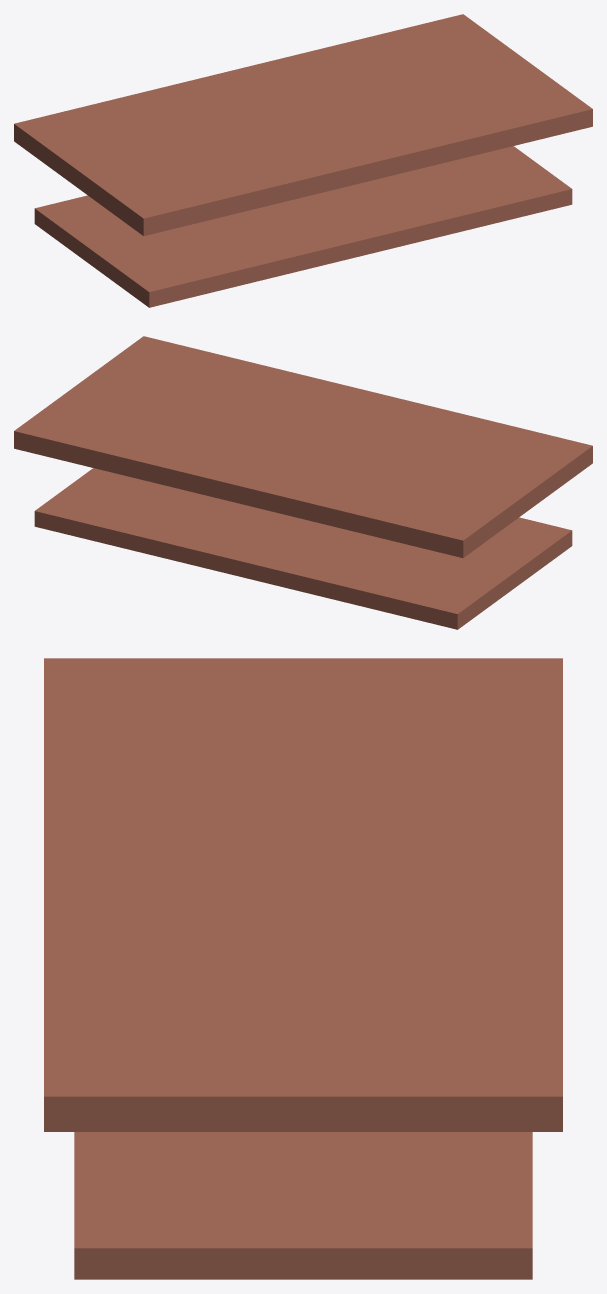
3 views of the same model, one above another, from view 1: azimuth 30°, elevation 25°; view 2: azimuth 150°, elevation 25°; view 3: azimuth 270°, elevation 25° (orthographic). The views are drawn at different scales.
Visible parts, largest first — view 1: Tabletop, Shelf; view 2: Tabletop, Shelf; view 3: Tabletop, Shelf.
Boxes of the visible parts, <box> form: Tabletop: <box>14,14,592,235</box>; Shelf: <box>34,146,572,307</box>; Tabletop: <box>14,336,592,557</box>; Shelf: <box>34,468,572,629</box>; Tabletop: <box>44,658,562,1131</box>; Shelf: <box>74,1132,532,1279</box>.
Size of what is drawn, in the model's own units: 1.2 by 0.25 by 0.6.
